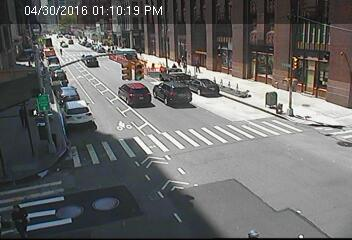neg: (128, 59, 147, 85), (261, 87, 280, 112), (159, 80, 176, 104), (35, 92, 52, 114), (216, 74, 232, 95), (145, 56, 159, 74), (37, 163, 50, 181), (212, 58, 222, 72), (55, 45, 65, 58), (36, 34, 46, 47), (154, 44, 163, 56), (97, 44, 103, 52)
pos: (4, 200, 32, 238), (15, 106, 32, 128), (193, 59, 204, 73), (179, 52, 188, 65), (175, 55, 184, 67), (171, 61, 178, 71)
